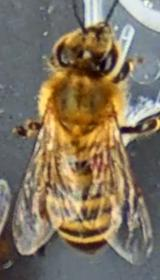varroa_mite: (85, 150, 112, 177)
